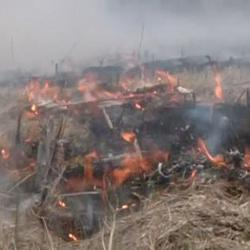fire: (26, 82, 63, 108), (116, 156, 145, 183), (201, 144, 219, 168), (213, 74, 225, 103)
